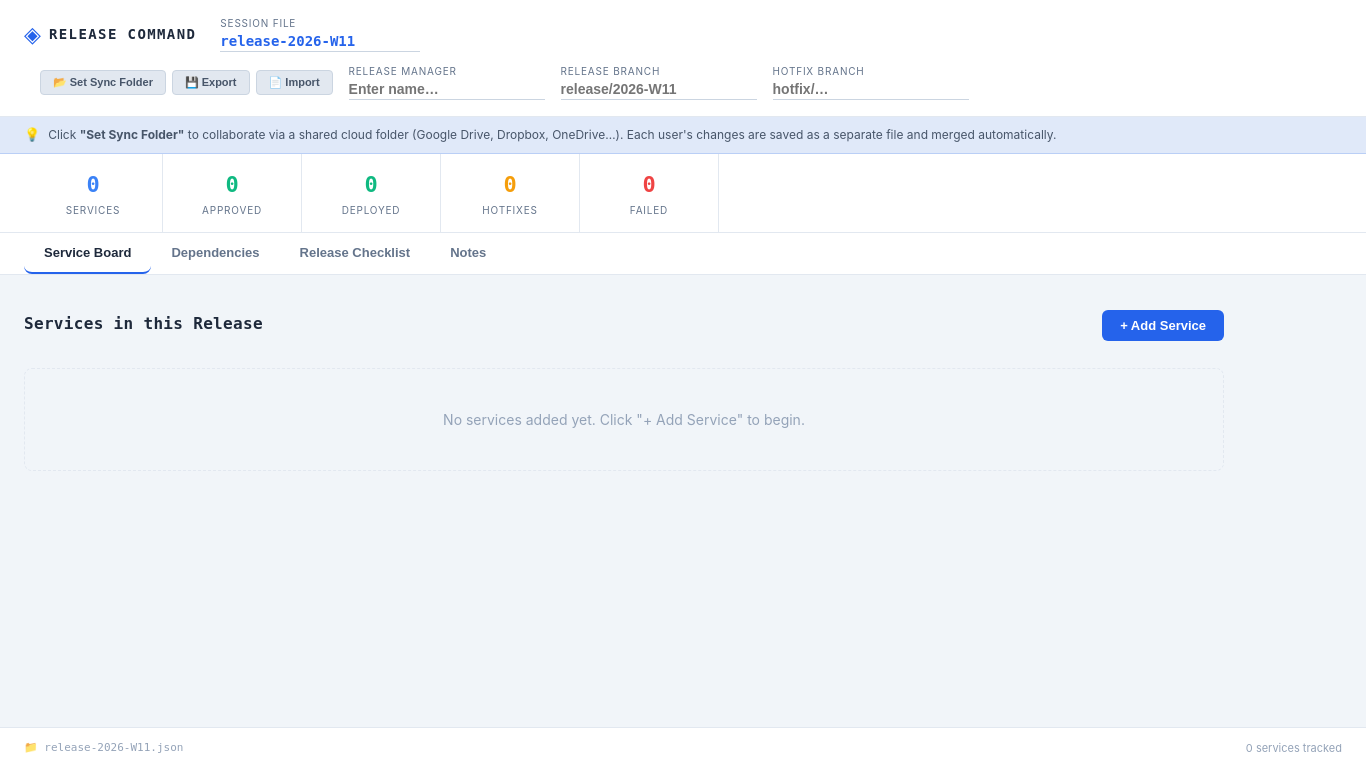
Notes tab › adds a tag when tag name is entered and submitted
Click the button "Notes" at (468, 253), box [430,232,506,274]
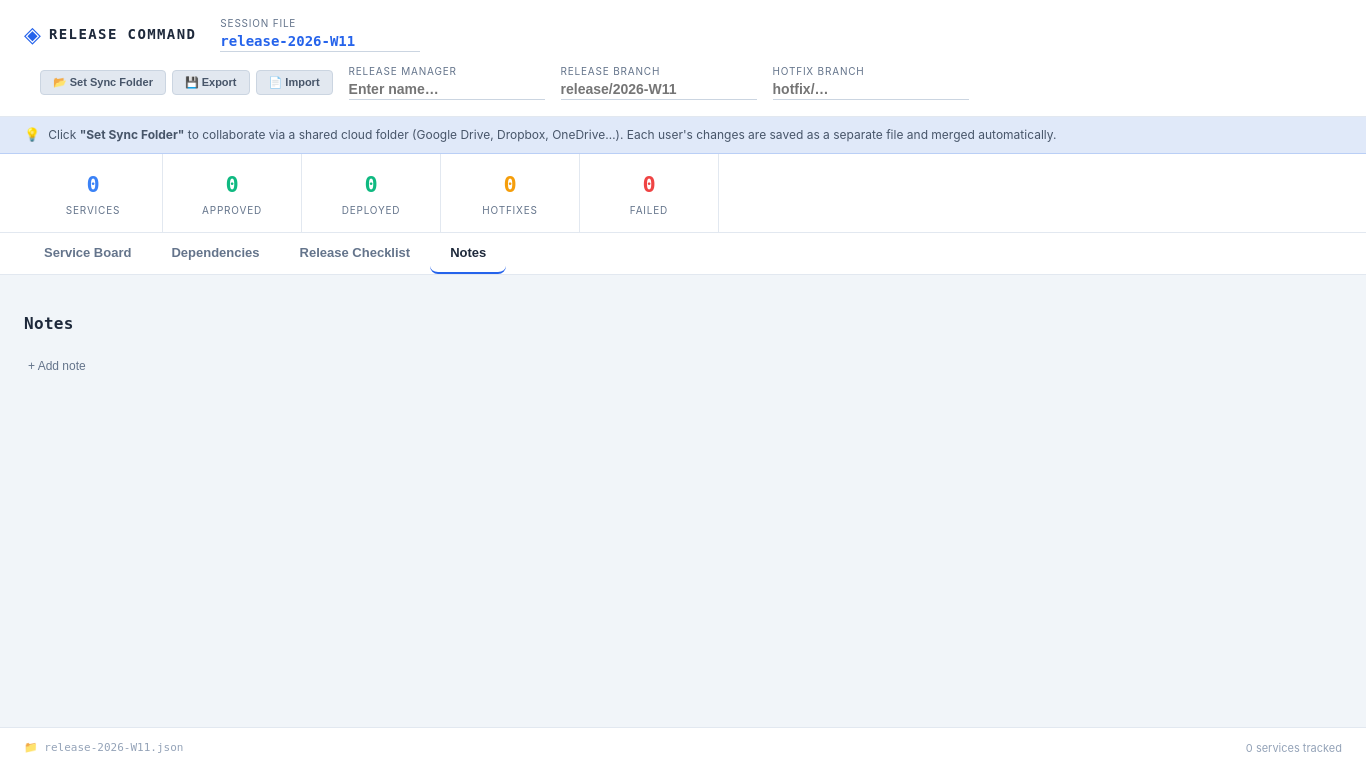
Click the button "+ Add note" at (57, 366), box [24,353,90,379]
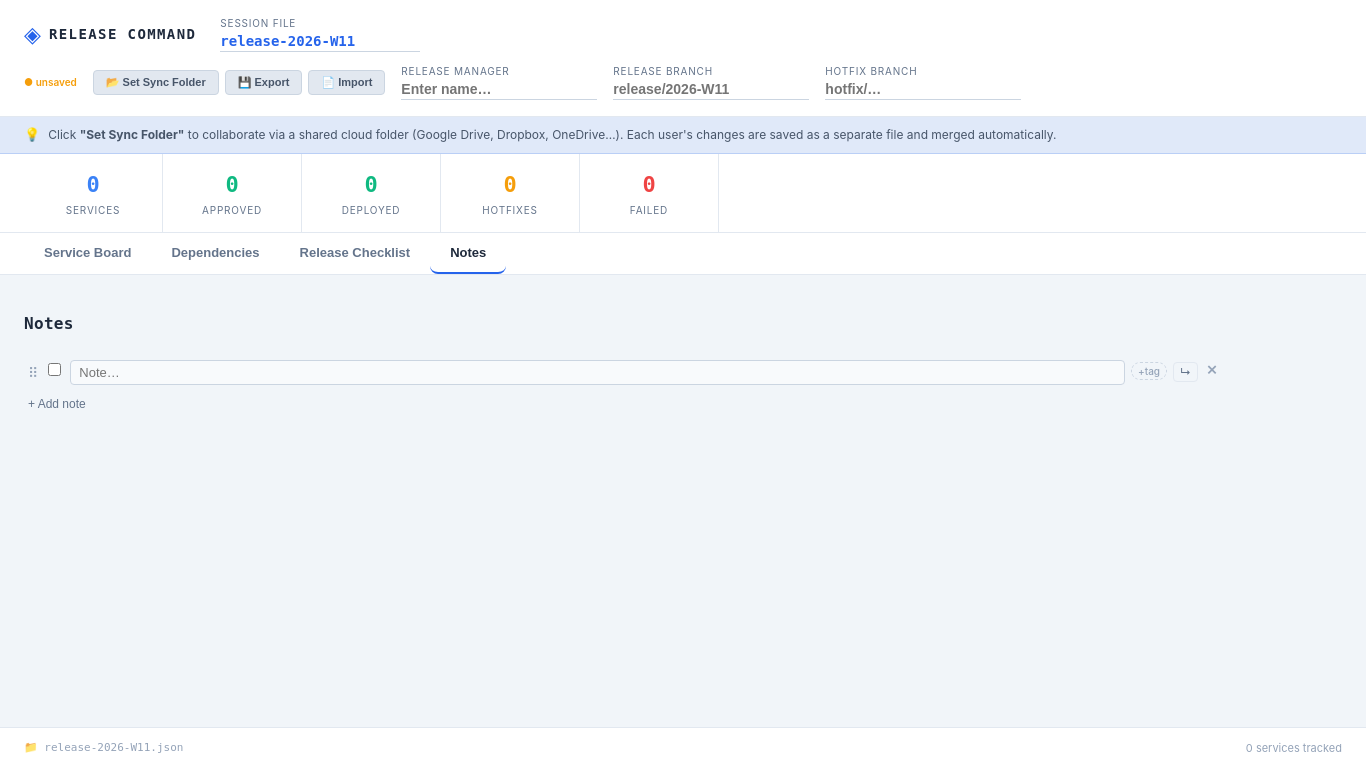
Click the button titled "Add tag" at (1149, 371), box [1131,362,1167,380]
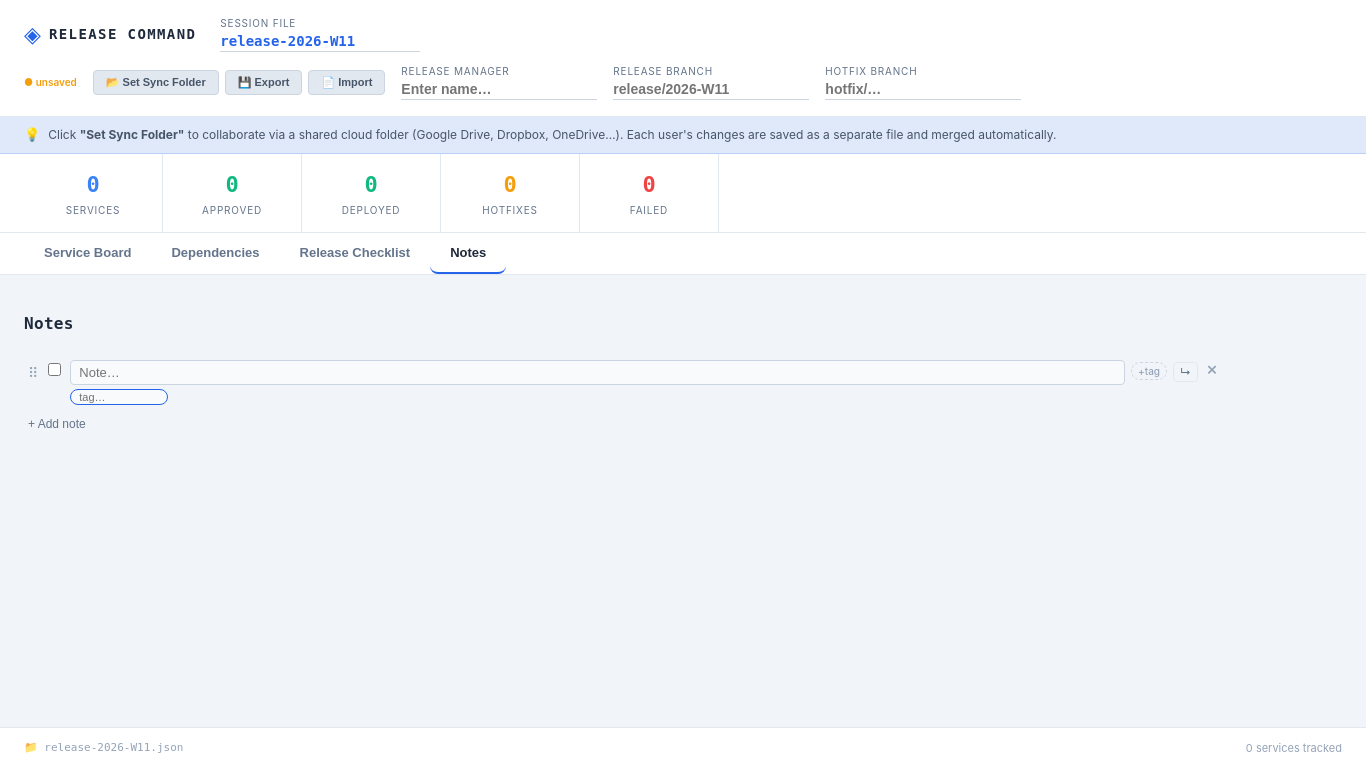
Type "urgent" into the field with placeholder "tag…" at (119, 397), box [70,389,168,405]
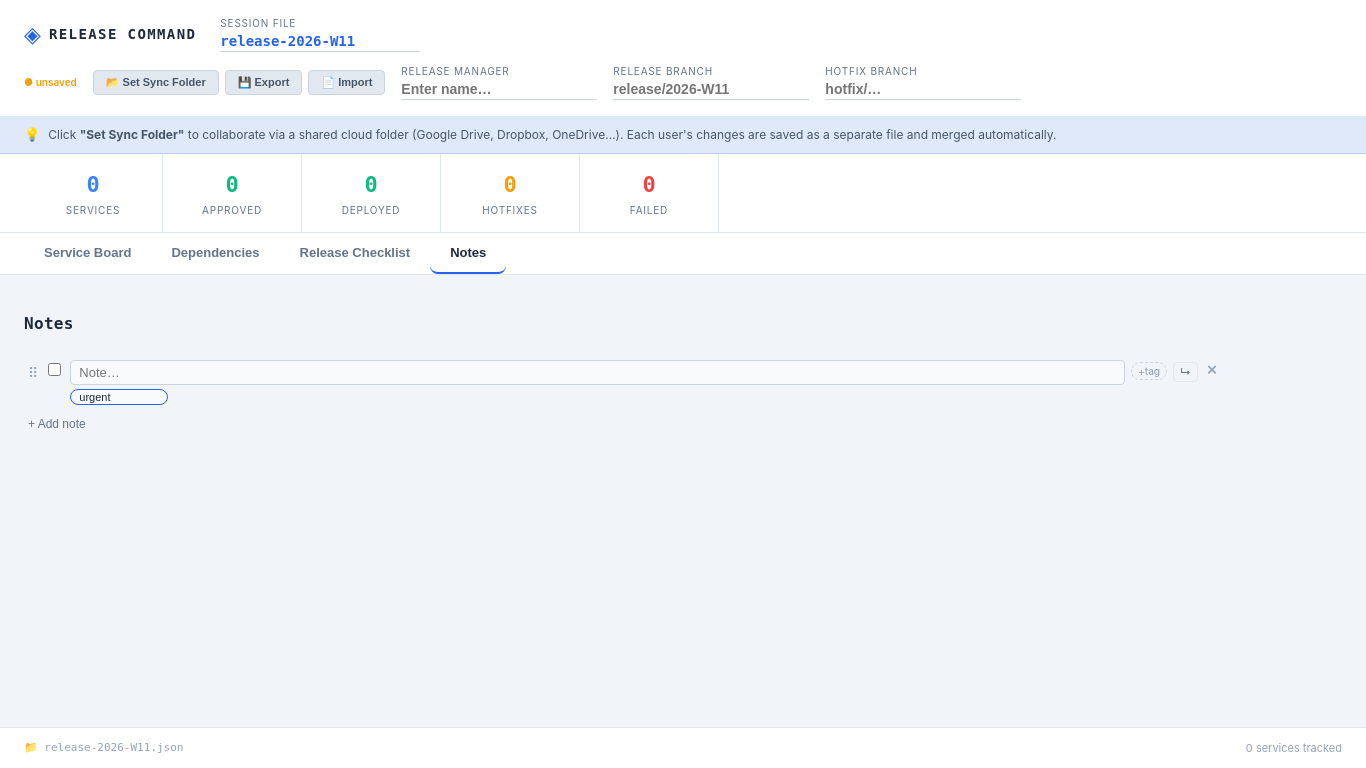
Press Enter in the 2nd field with placeholder "tag…", box [70,389,168,405]
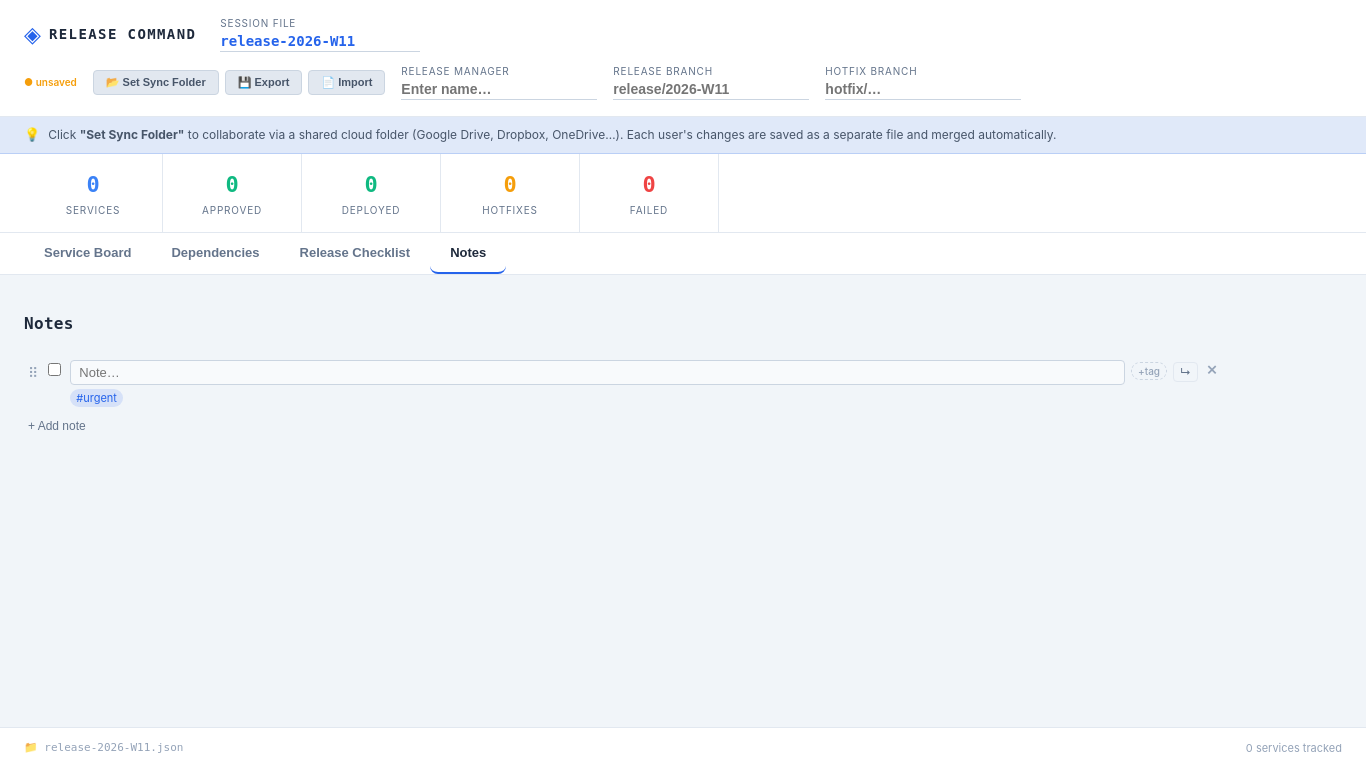
Check: the text "#urgent" is shown, box [70,389,123,407]
